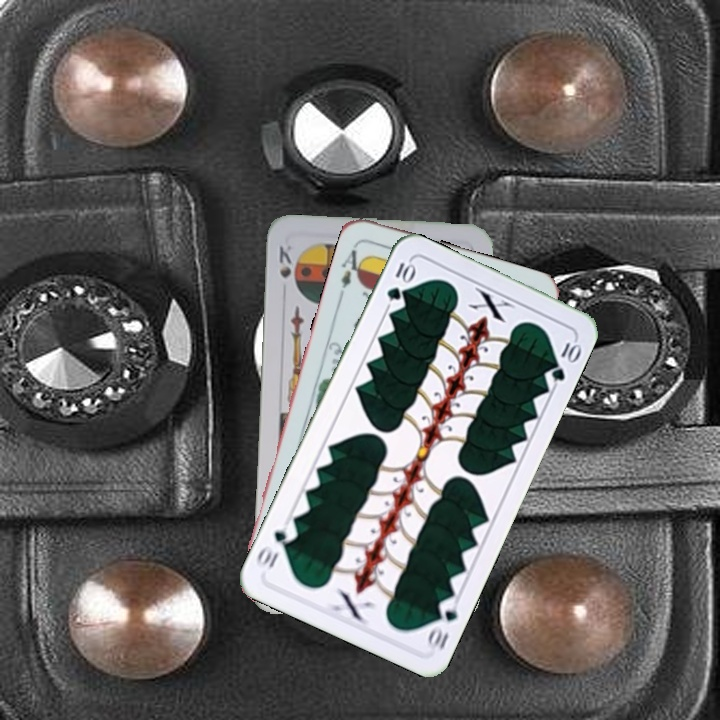EA: (335, 240, 368, 299)
G10: (423, 594, 461, 653), (382, 256, 417, 303)
SK: (275, 241, 295, 281)
